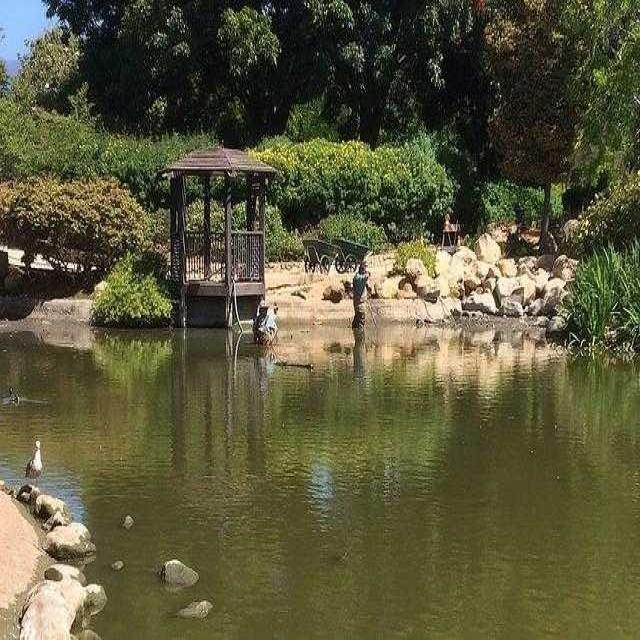Ponds: (7, 322, 640, 638)
